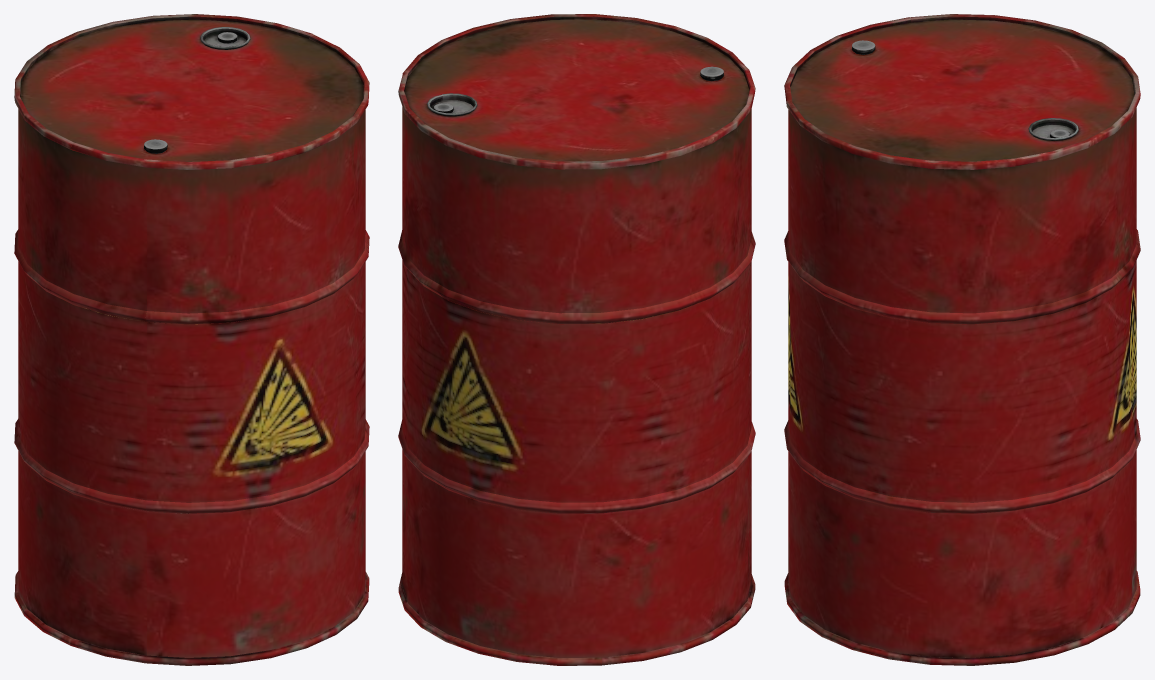
The model's file is Barrel_01.glb.
3 views of the same model, side by side, from view 1: azimuth 30°, elevation 25°; view 2: azimuth 150°, elevation 25°; view 3: azimuth 270°, elevation 25° (orthographic).
Visible parts, largest first — view 1: Barrel_01; view 2: Barrel_01; view 3: Barrel_01.
Boxes of the visible parts, x1,y1,x2,y2 form: Barrel_01: [14, 14, 369, 665]; Barrel_01: [398, 14, 755, 665]; Barrel_01: [784, 14, 1140, 665].
Size of the model in its own units: 0.563 by 0.8802 by 0.563.
1 material, 1 textured.
